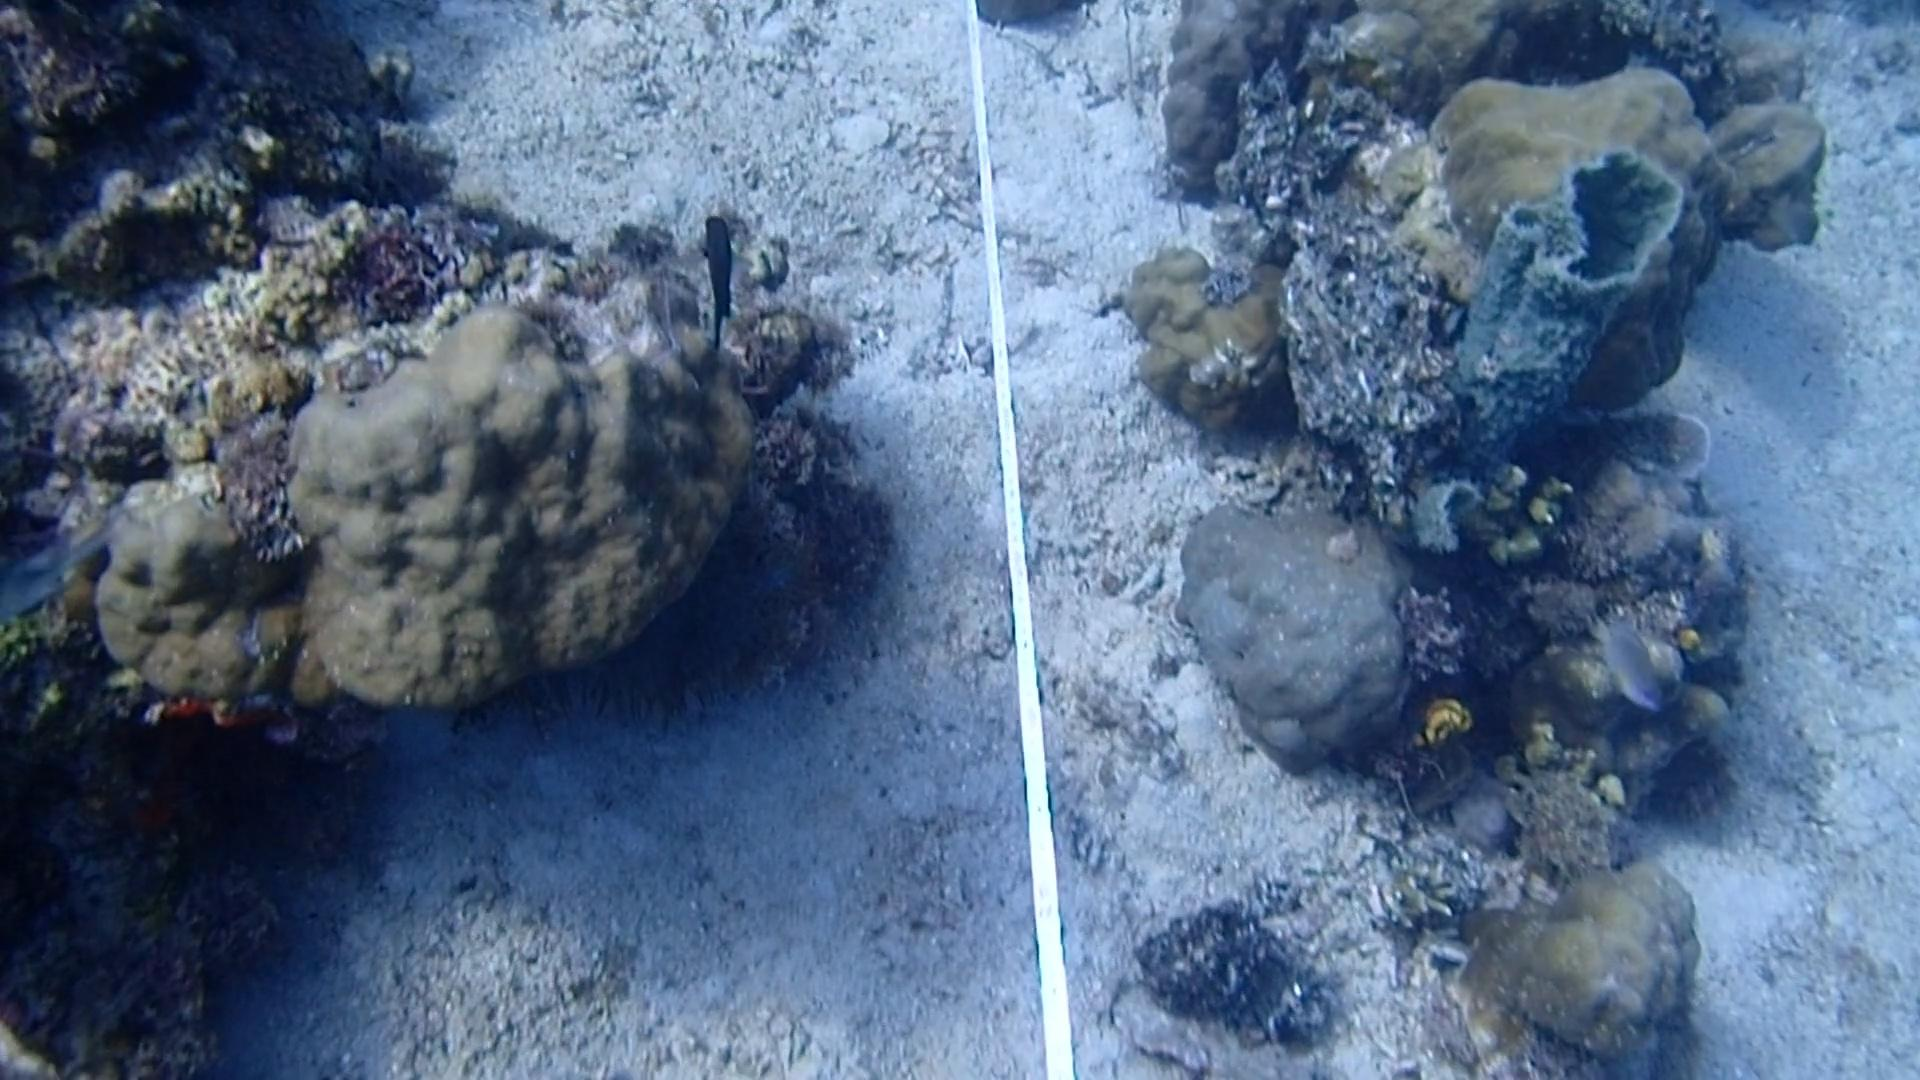Blue Nose Fish: (1585, 604, 1675, 717)
Dark Fish: (692, 207, 761, 357)
